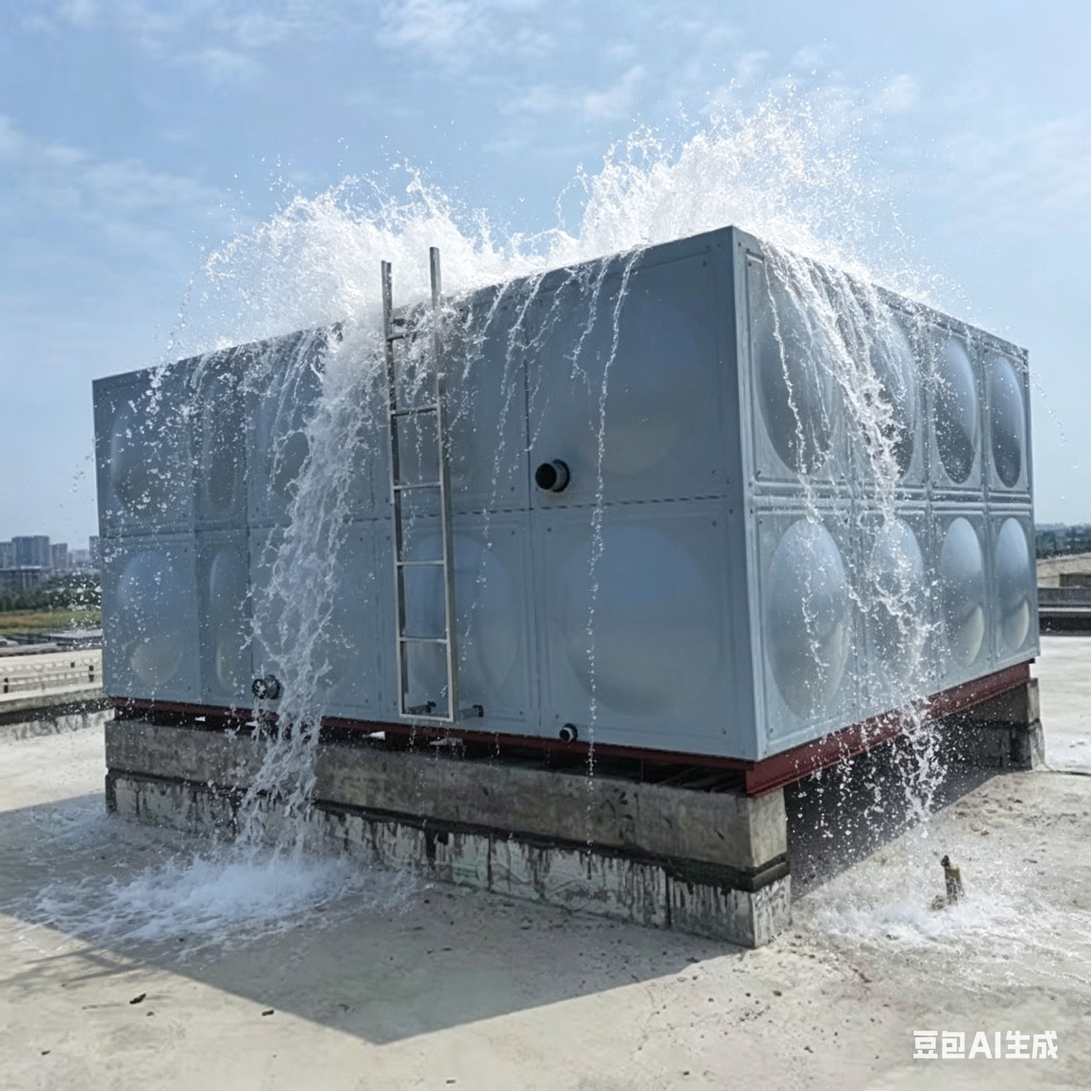Leakage: (193, 195, 487, 826), (780, 419, 1013, 959), (525, 146, 917, 409), (12, 832, 407, 979)
